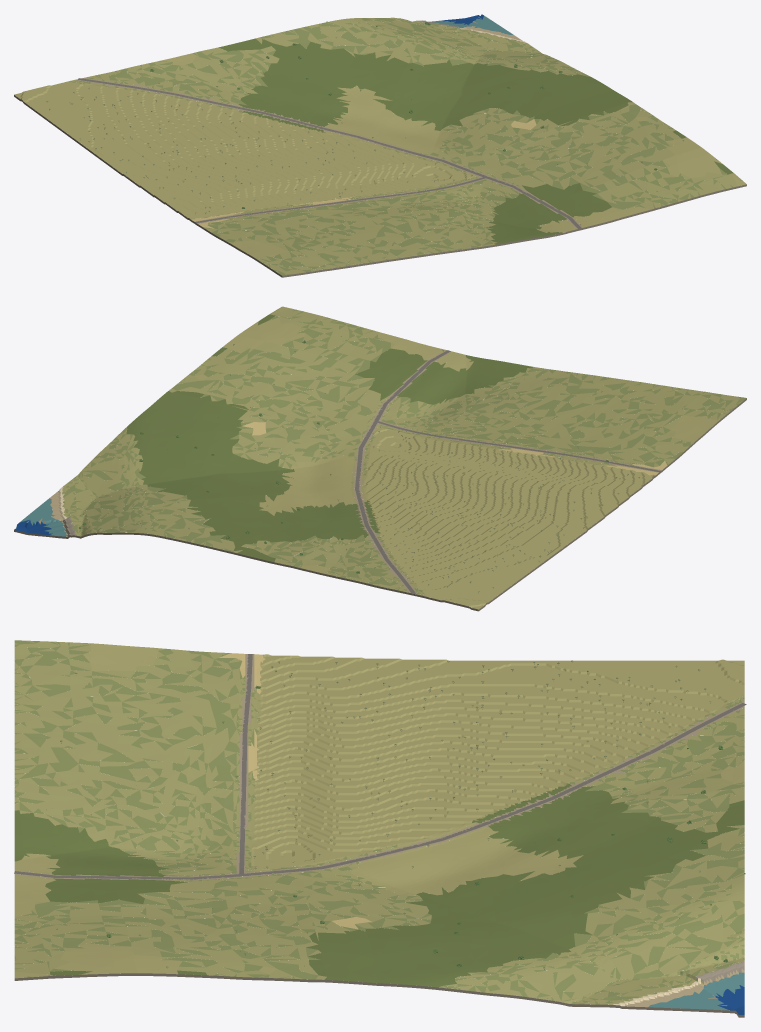
Rendered from parca_+14_-3-yakin.glb.
3 views of the same model, one above another, from view 1: azimuth 30°, elevation 25°; view 2: azimuth 150°, elevation 25°; view 3: azimuth 270°, elevation 25° (orthographic). The views are drawn at different scales.
Visible parts, largest first — view 1: parca_+14_-3_arazi, parca_+14_-3_yollar, parca_+14_-3_bitkiler; view 2: parca_+14_-3_arazi, parca_+14_-3_yollar, parca_+14_-3_bitkiler; view 3: parca_+14_-3_arazi, parca_+14_-3_yollar, parca_+14_-3_bitkiler.
Boxes of the visible parts, x1,y1,x2,y2 form: parca_+14_-3_arazi: [14, 14, 746, 277]; parca_+14_-3_yollar: [78, 78, 581, 228]; parca_+14_-3_bitkiler: [46, 21, 683, 253]; parca_+14_-3_arazi: [14, 306, 746, 611]; parca_+14_-3_yollar: [355, 350, 660, 594]; parca_+14_-3_bitkiler: [79, 336, 682, 592]; parca_+14_-3_arazi: [14, 640, 744, 1017]; parca_+14_-3_yollar: [14, 654, 746, 879]; parca_+14_-3_bitkiler: [20, 655, 745, 998].
Size of the model in its own units: 1000 by 104 by 1004.
